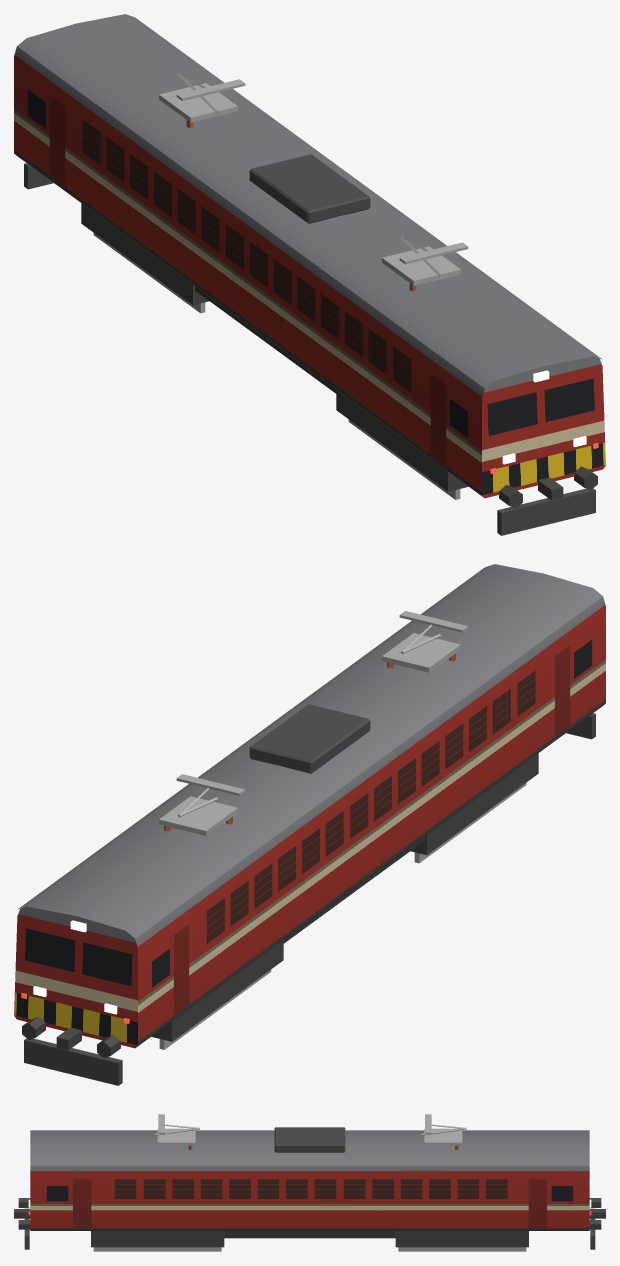
Rendered from wap7_lod1.glb.
The picture shows the model from 3 angles, top to bottom: view 1: azimuth 30°, elevation 25°; view 2: azimuth 150°, elevation 25°; view 3: azimuth 270°, elevation 25°; orthographic projection. The views are drawn at different scales.
Parts seen in each view (by area): view 1: body, pantograph_front, pantograph_rear; view 2: body, pantograph_front, pantograph_rear; view 3: body, pantograph_front, pantograph_rear.
Part boxes in pixels (x1=…): body: x1=14, y1=14, x2=605, y2=535; pantograph_front: x1=159, y1=73, x2=245, y2=127; pantograph_rear: x1=382, y1=236, x2=468, y2=291; body: x1=14, y1=564, x2=605, y2=1085; pantograph_front: x1=159, y1=774, x2=245, y2=835; pantograph_rear: x1=382, y1=611, x2=468, y2=672; body: x1=14, y1=1127, x2=605, y2=1251; pantograph_front: x1=421, y1=1114, x2=466, y2=1149; pantograph_rear: x1=155, y1=1114, x2=199, y2=1149.
Bounding box in the file's own units: 3.15 × 4.79 × 21.76.
2 materials, 2 textured.
